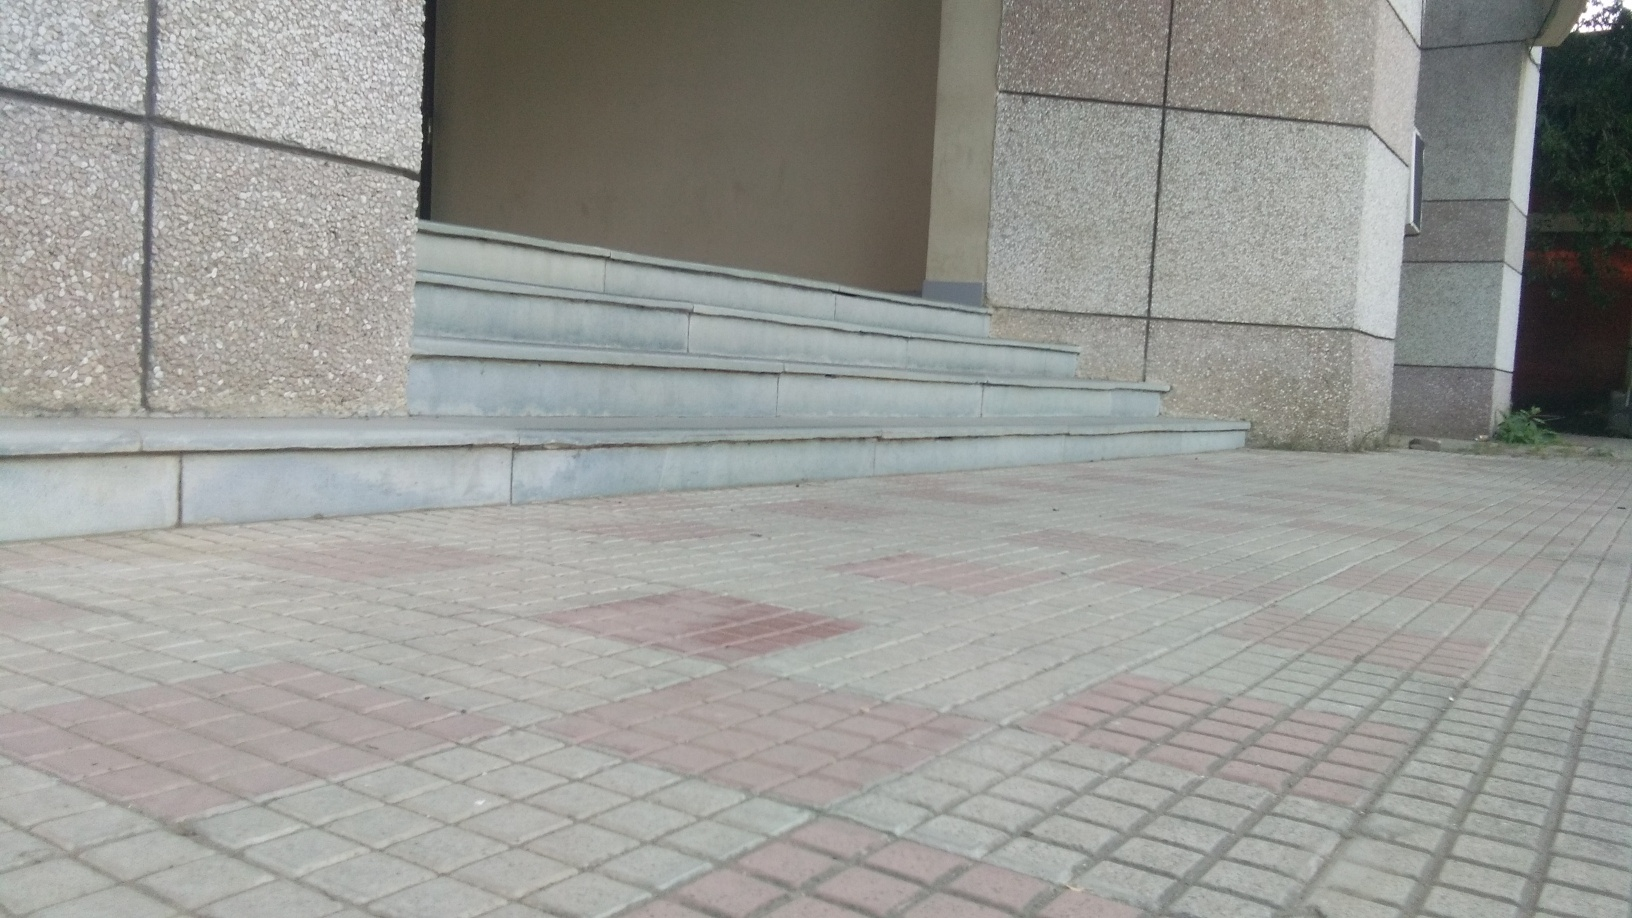stairs_up: (406, 208, 1239, 477)
